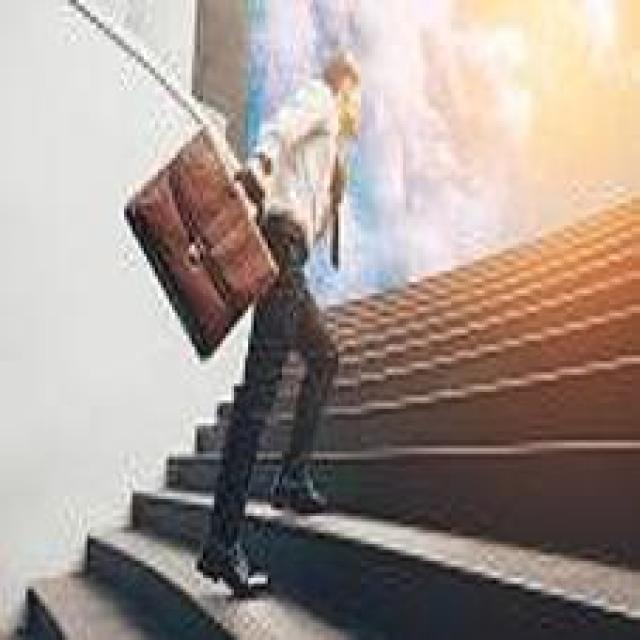stair: (110, 431, 479, 598)
